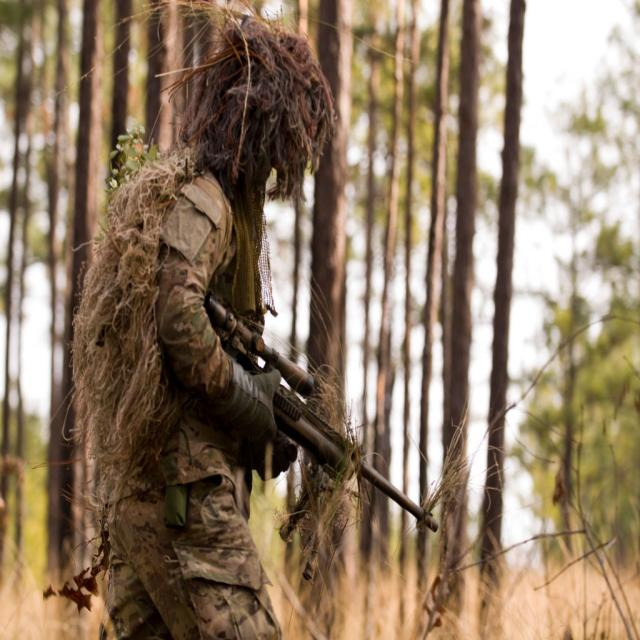Human: (78, 10, 437, 597)
